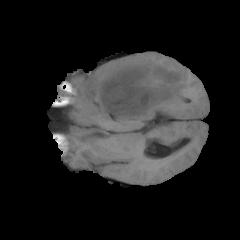glioma: (84, 55, 188, 121)
